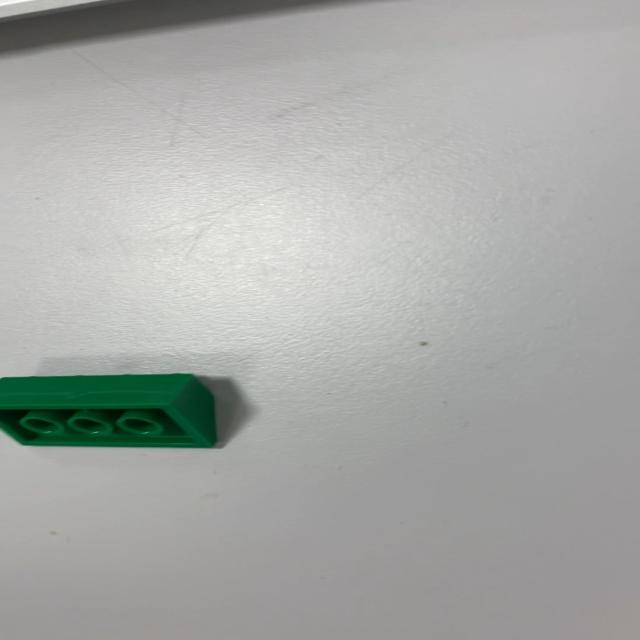P4x2x1: (1, 372, 218, 449)
